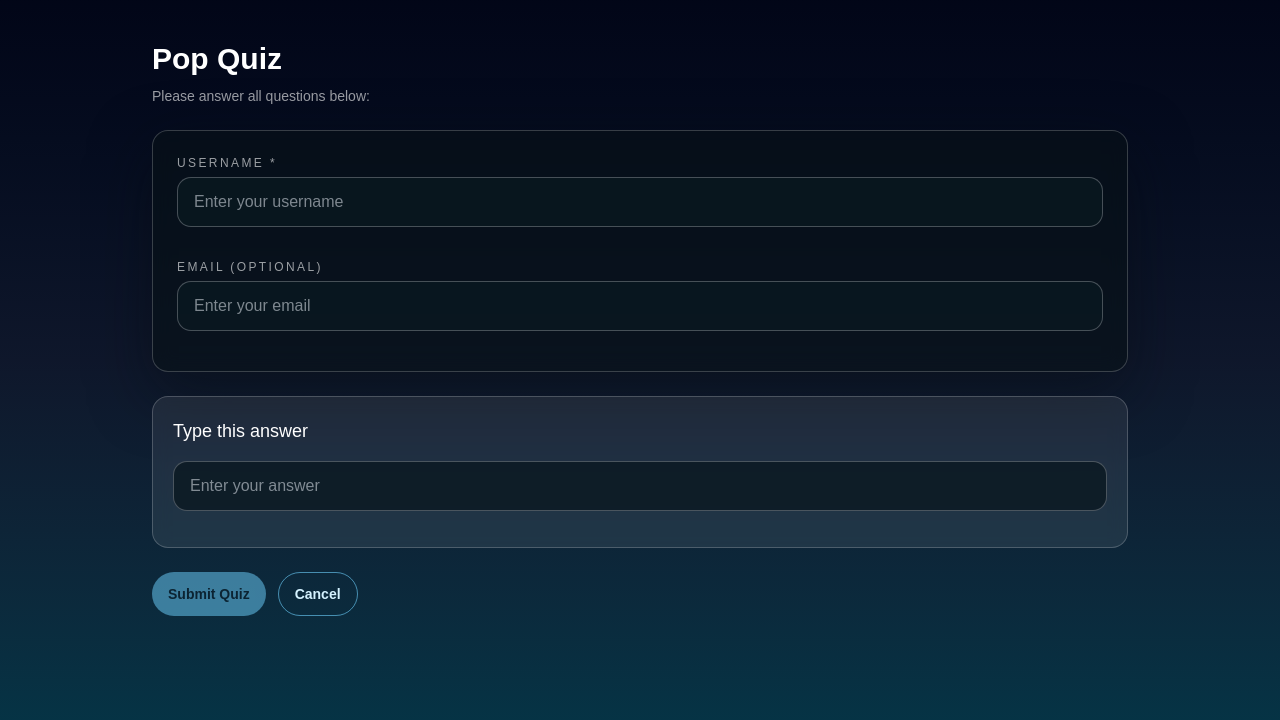
Test: JoinQuizPage › submits answers and shows thank-you state
Step 1. Type "Alice" into the field with placeholder "Enter your username" → [640, 202], box [177,177,1103,227]
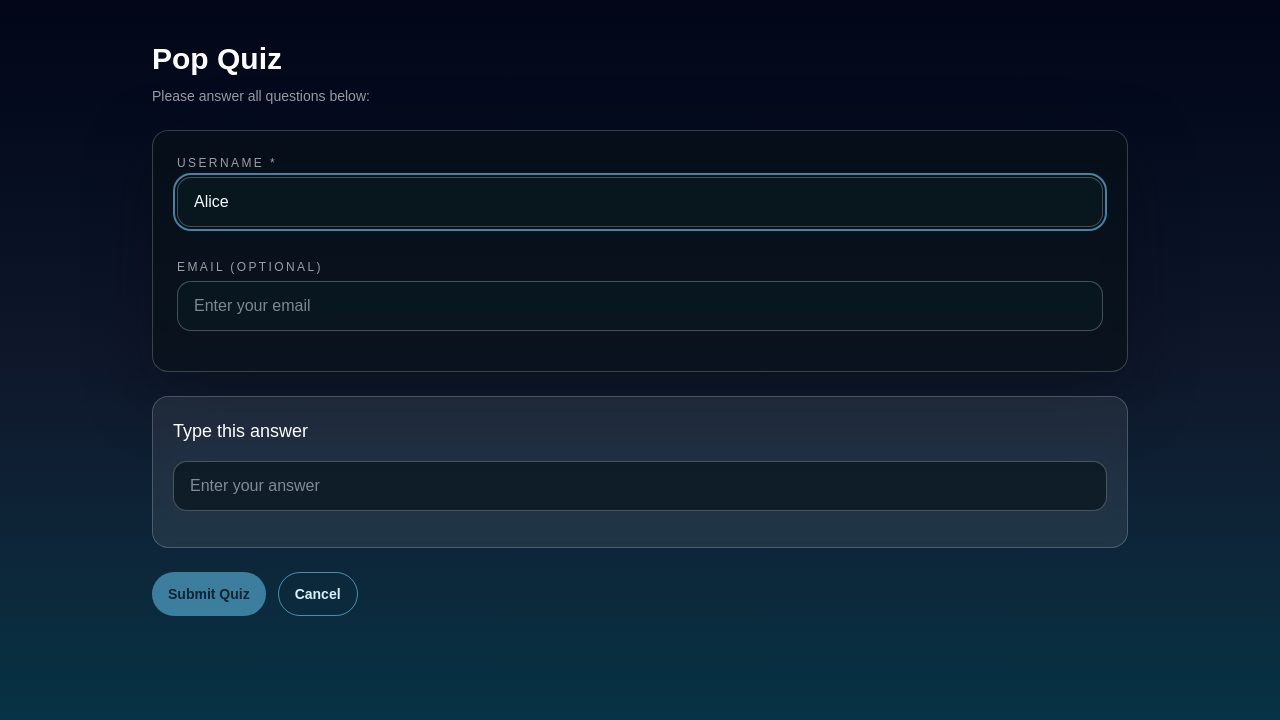
Step 2. Type "Blue" into the field with placeholder "Enter your answer" → [640, 486], box [173,461,1107,511]
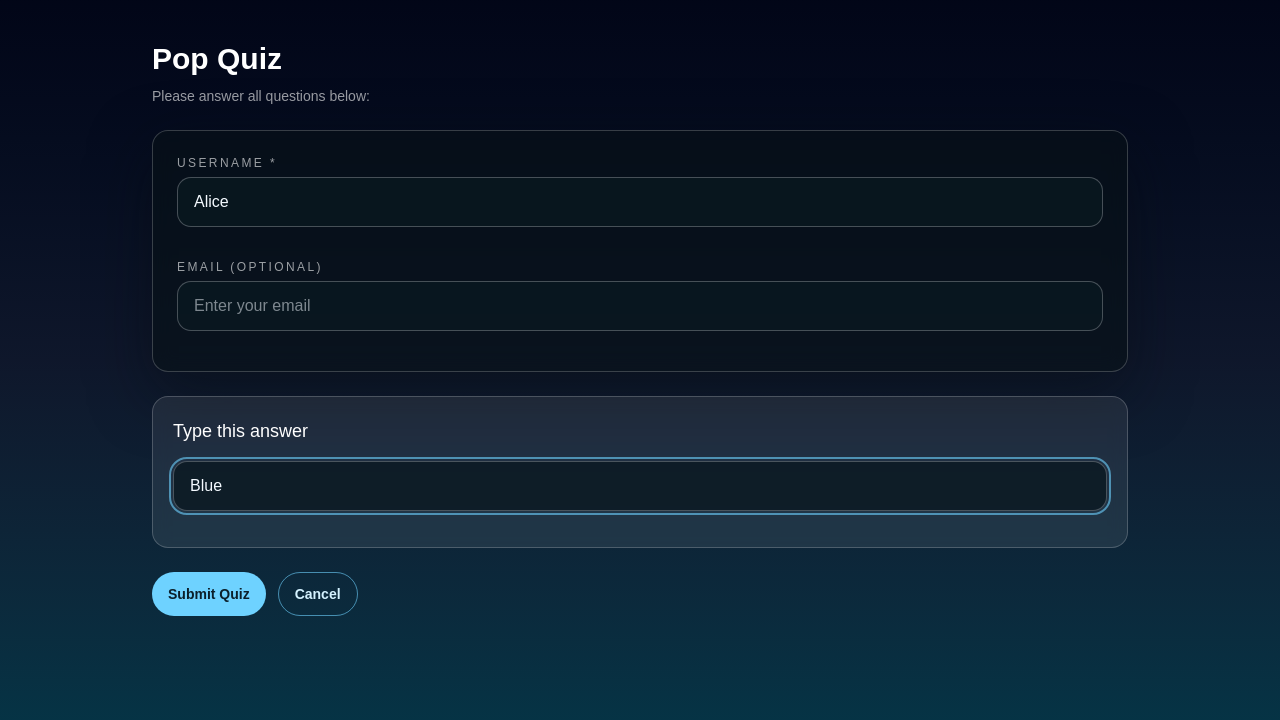
Step 3. Click the button "Submit Quiz" → [209, 594], box [152,572,266,616]
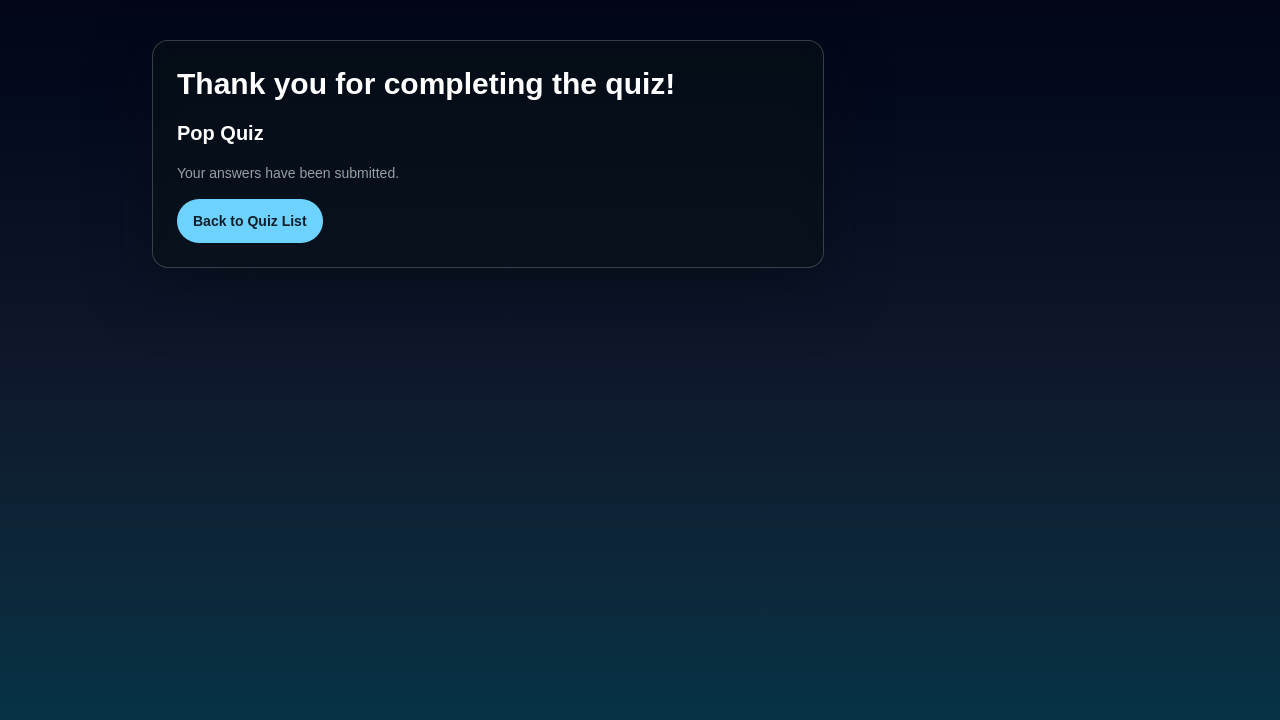
Result: the heading "Thank you for completing the quiz!" is shown at [177,67,675,100]
